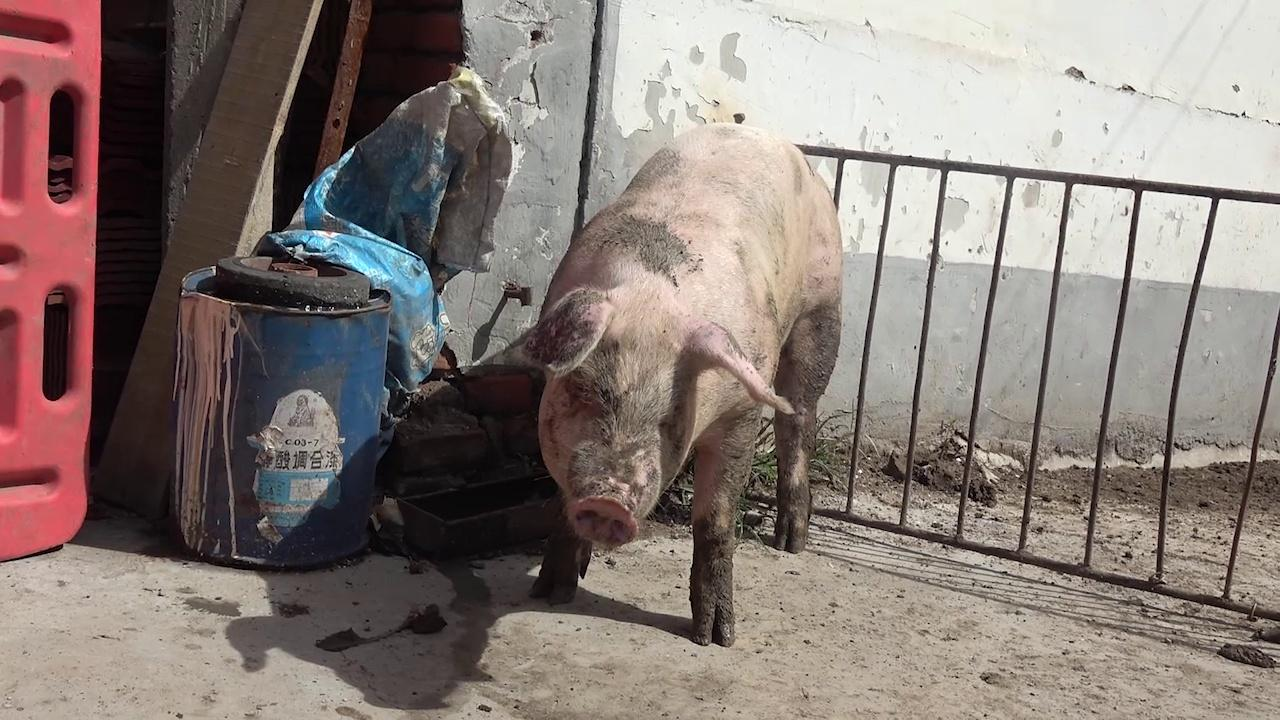Face: (523, 289, 804, 560)
